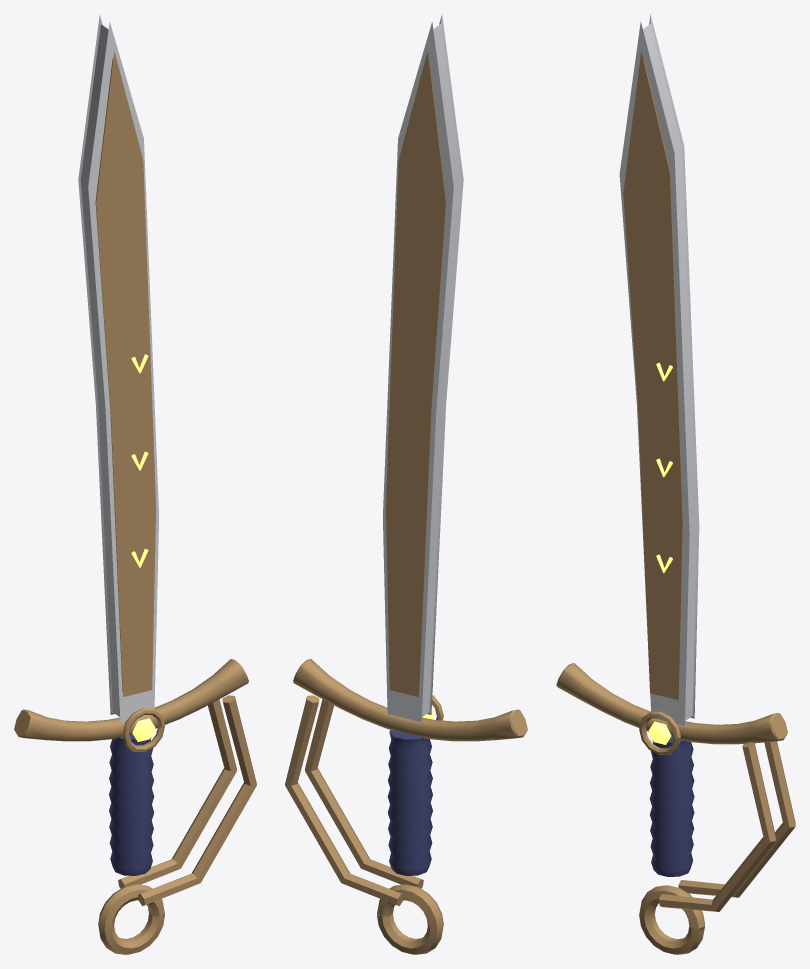
File: artisan_harbor_basket_sword.glb
3 renders of one model, left to right at view 1: azimuth 30°, elevation 25°; view 2: azimuth 150°, elevation 25°; view 3: azimuth 330°, elevation 25°, orthographic.
Parts seen in each view (by area): view 1: artisan_harbor_basket_sword; view 2: artisan_harbor_basket_sword; view 3: artisan_harbor_basket_sword.
Part boxes in pixels (bbox=[...]): artisan_harbor_basket_sword: bbox=[14, 14, 256, 954]; artisan_harbor_basket_sword: bbox=[285, 14, 527, 954]; artisan_harbor_basket_sword: bbox=[556, 14, 795, 954].
Bounding box in the file's own units: 0.2938 × 1.15 × 0.0653.
